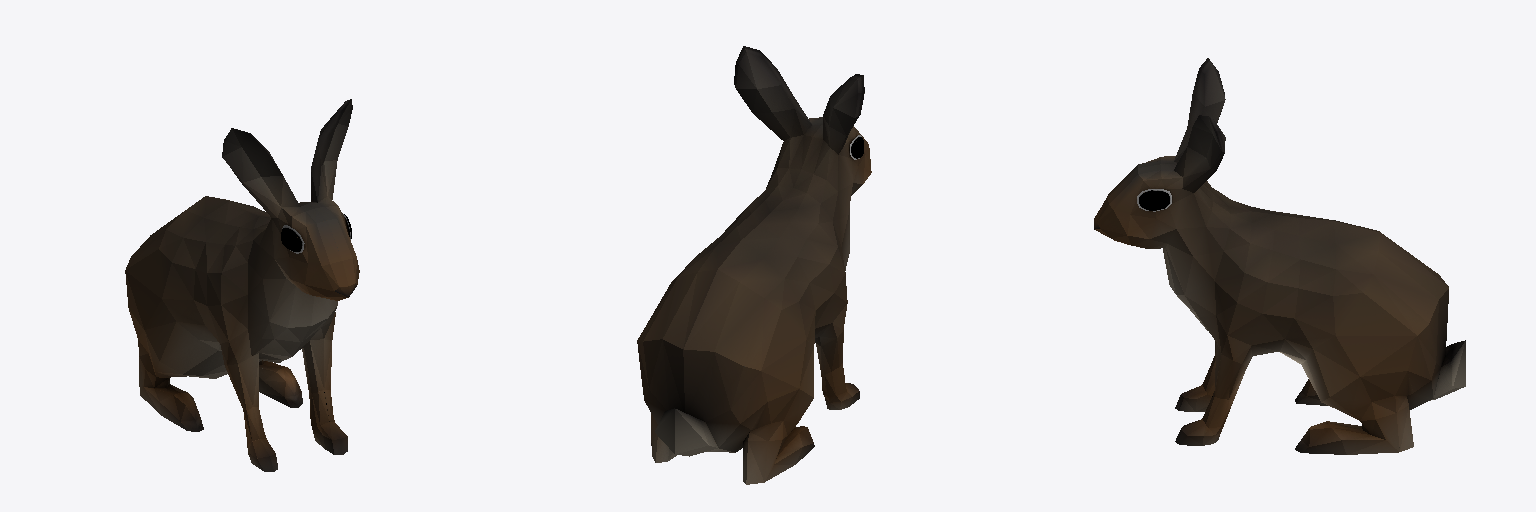
The picture shows the model from 3 angles: view 1: azimuth 30°, elevation 25°; view 2: azimuth 150°, elevation 25°; view 3: azimuth 270°, elevation 25°; orthographic projection.
Visible parts, largest first — view 1: base.144_Mesh.004; view 2: base.144_Mesh.004; view 3: base.144_Mesh.004.
Part boxes in pixels (left/top/right/bottom): base.144_Mesh.004: left=125, top=99, right=359, bottom=471; base.144_Mesh.004: left=637, top=46, right=871, bottom=484; base.144_Mesh.004: left=1094, top=58, right=1465, bottom=454.
Size of the model in its own units: 0.2144 by 0.4847 by 0.4827.
1 materials, 1 textured.